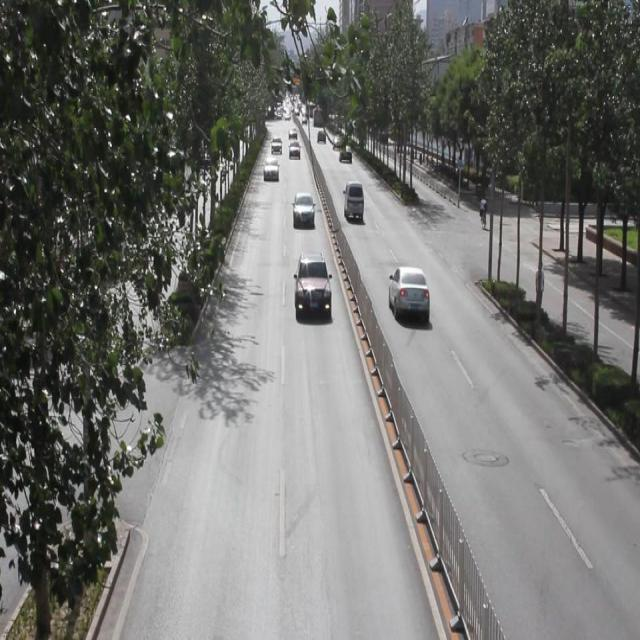car: (294, 251, 332, 313), (388, 265, 429, 322), (292, 190, 314, 228), (262, 154, 278, 180), (339, 143, 354, 162), (287, 138, 300, 158), (270, 134, 283, 154), (316, 125, 327, 144), (332, 132, 343, 150), (288, 125, 298, 139)
truck: (343, 179, 364, 218)
